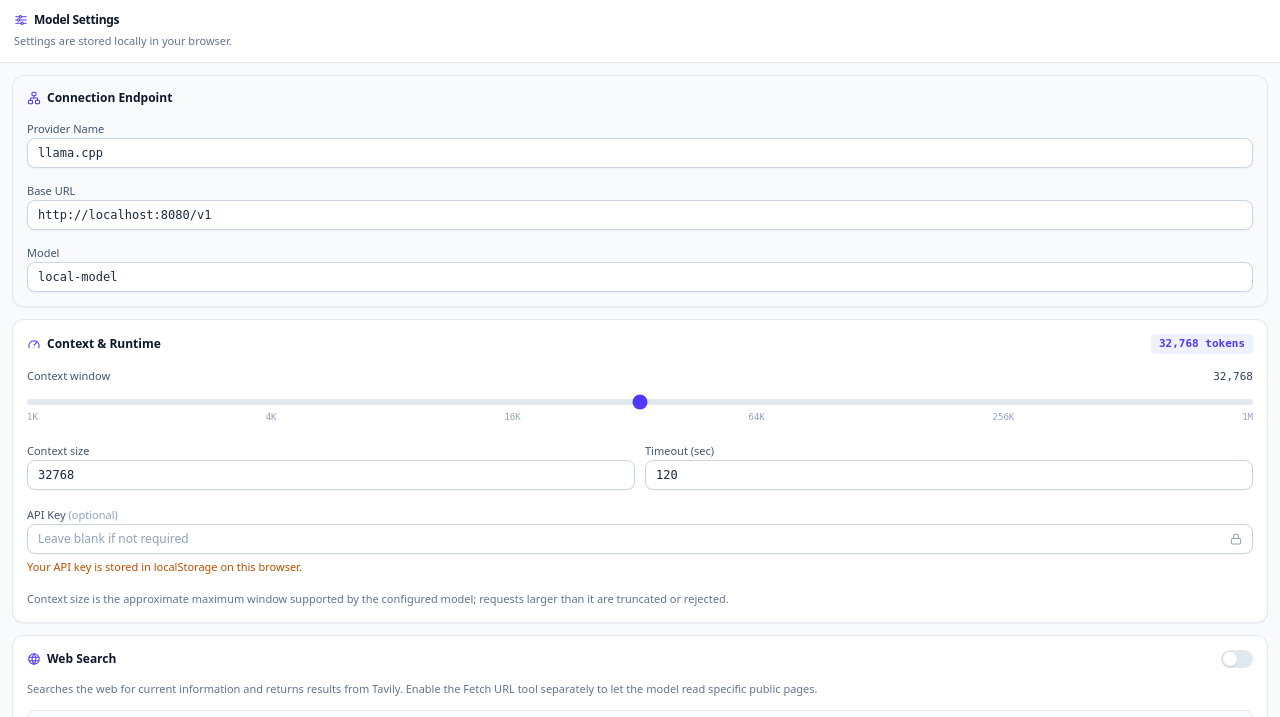
it: ProviderSettings › disables the test button when the base URL is empty
Clear the field with id "base-url": point(640, 215) x1=27 y1=200 x2=1253 y2=230
(page scrolled)
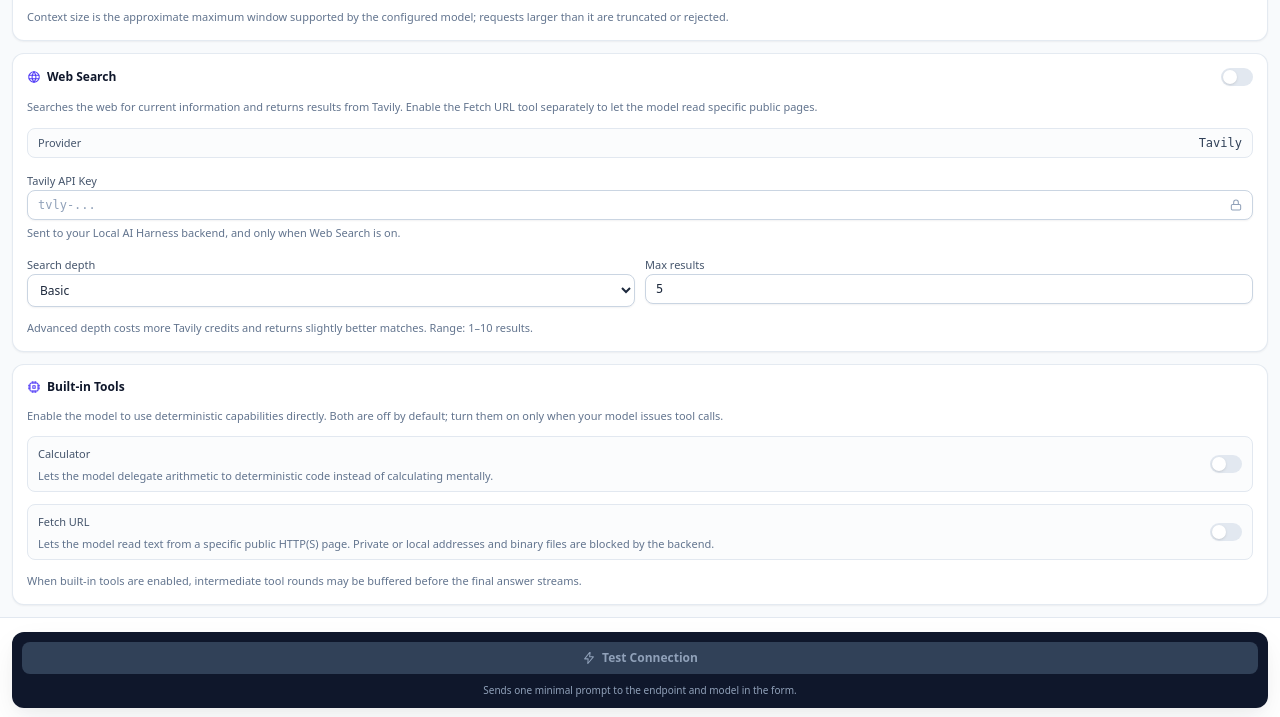
Result: the button "Test Connection" is disabled at x1=22 y1=642 x2=1258 y2=674
